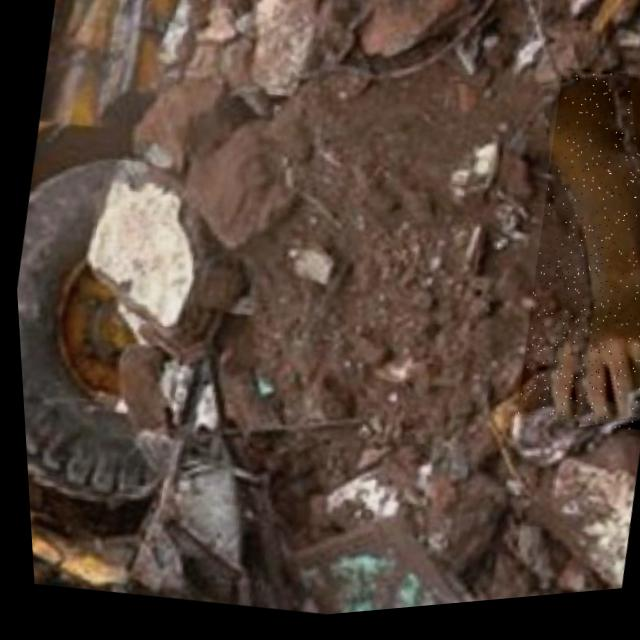Person in Rubble: (494, 70, 640, 450)
